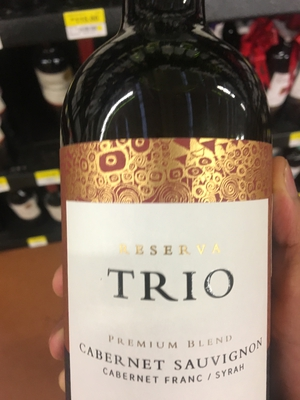trio cabernet sauvignon: (59, 37, 271, 400)
